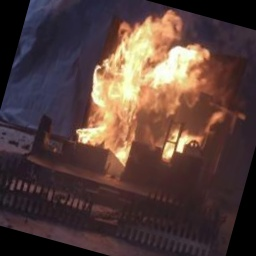fire: (54, 0, 256, 204)
